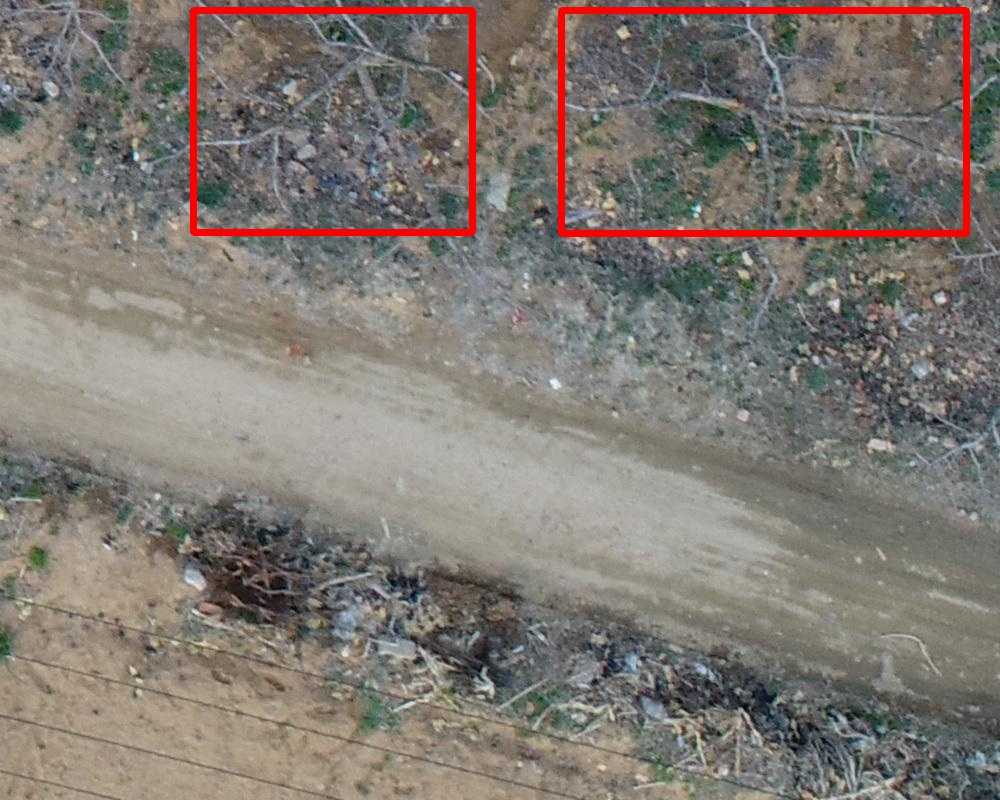apple: (561, 10, 966, 233), (193, 10, 472, 232)
